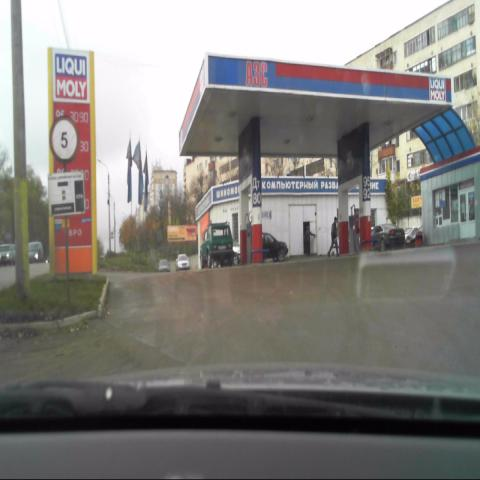3_24: (49, 117, 80, 164)
